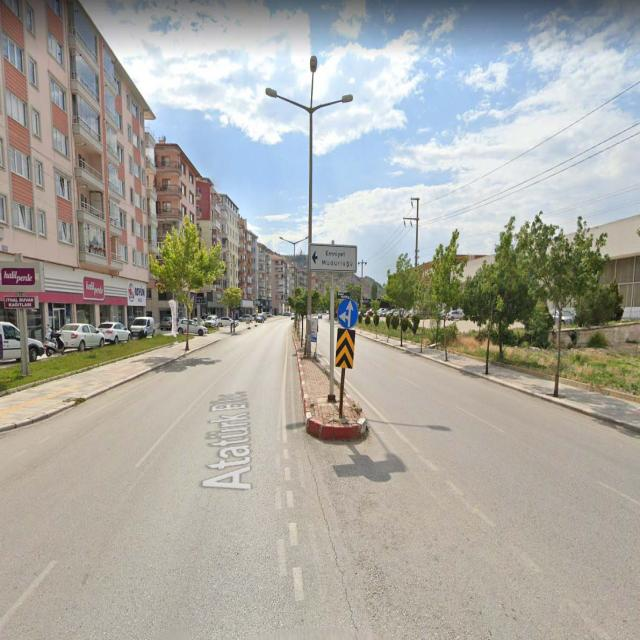ilerisol: (337, 300, 359, 328)
